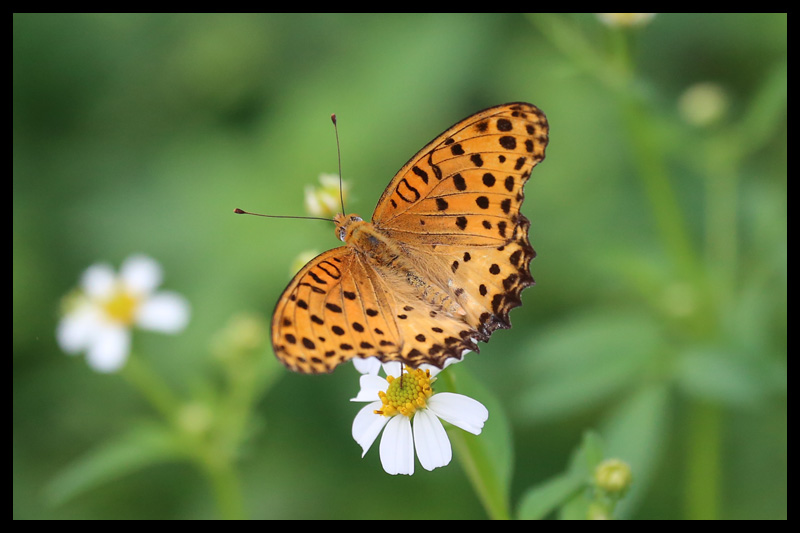Argyreus hyperbius: (223, 93, 556, 374)
butterfly: (225, 95, 558, 376)
